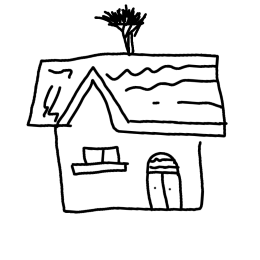closed_window: (67, 138, 136, 178)
door: (141, 150, 189, 216)
roof: (17, 45, 237, 138)
smoking_chimney: (88, 1, 158, 63)
wall: (44, 125, 211, 218)
